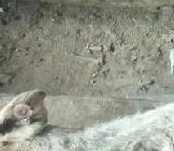text: (4, 95, 42, 128)
